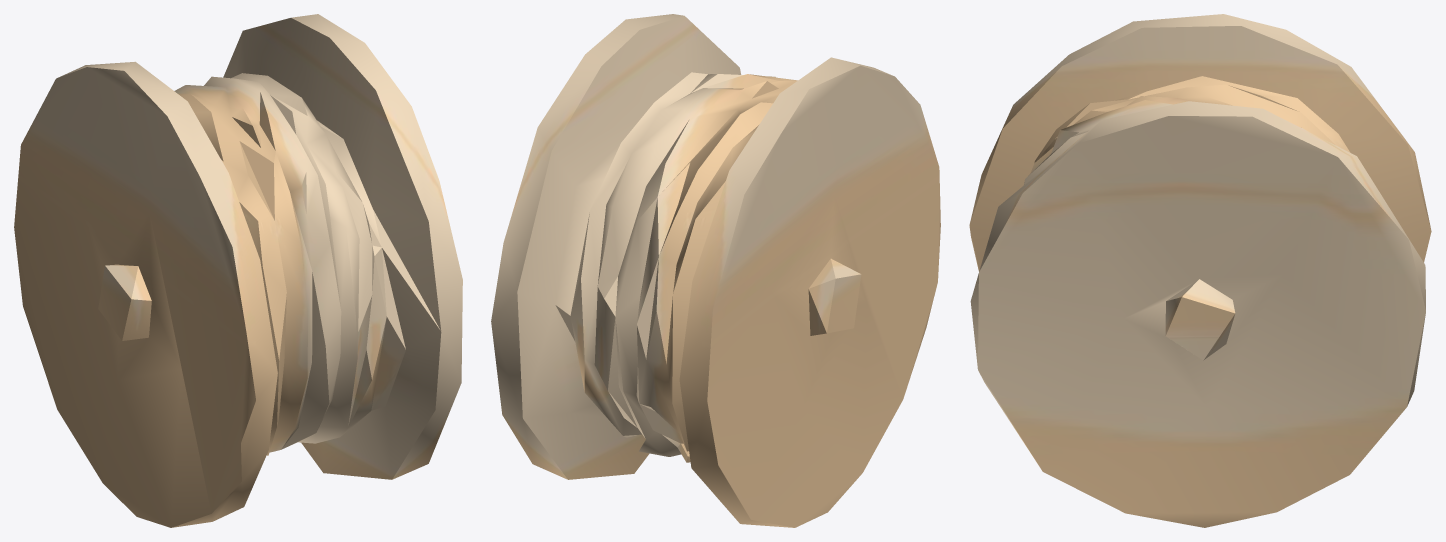
3 renders of one model, left to right at view 1: azimuth 30°, elevation 25°; view 2: azimuth 150°, elevation 25°; view 3: azimuth 270°, elevation 25°, orthographic. The views are drawn at different scales.
Parts seen in each view (by area): view 1: Decor_cable_reel; view 2: Decor_cable_reel; view 3: Decor_cable_reel.
Boxes of the visible parts, x1,y1,x2,y2 form: Decor_cable_reel: (14,14,462,527); Decor_cable_reel: (491,14,940,527); Decor_cable_reel: (969,14,1431,527).
Size of the model in its own units: 0.5329 by 0.9062 by 0.9008.
Materials: 1 (1 with a texture image).
